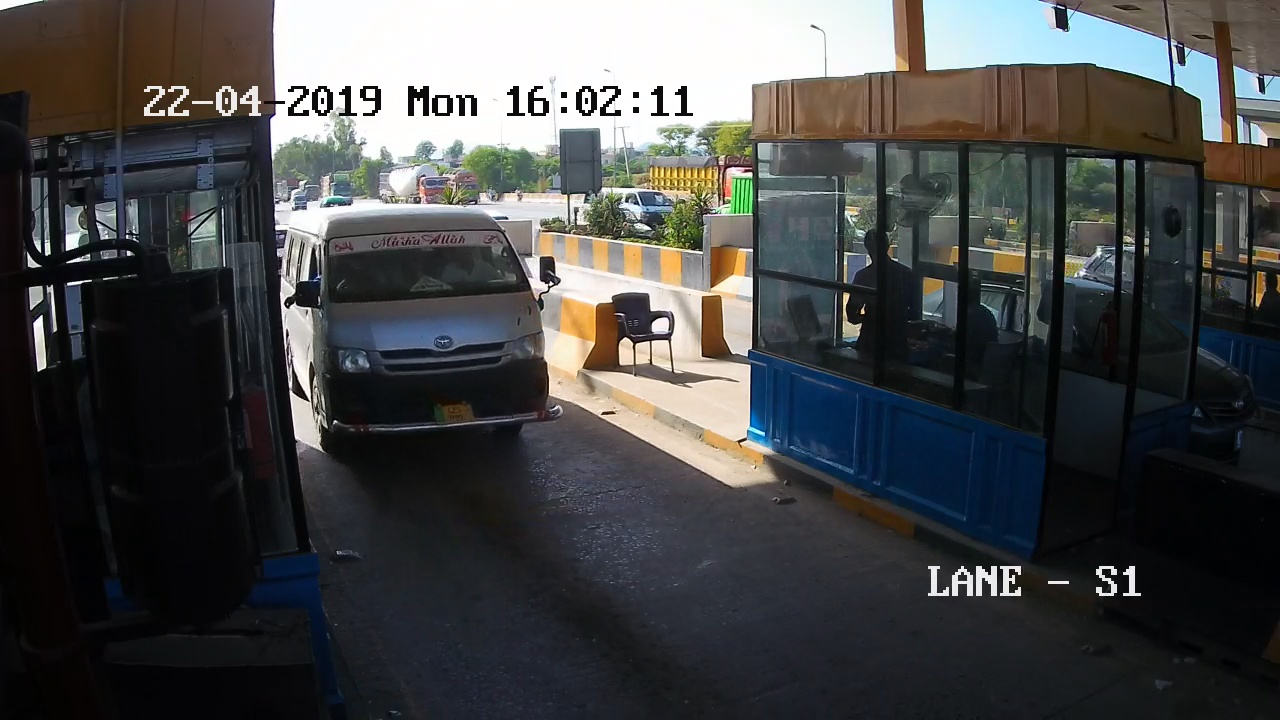Number Plate (Car): (427, 403, 479, 425)
